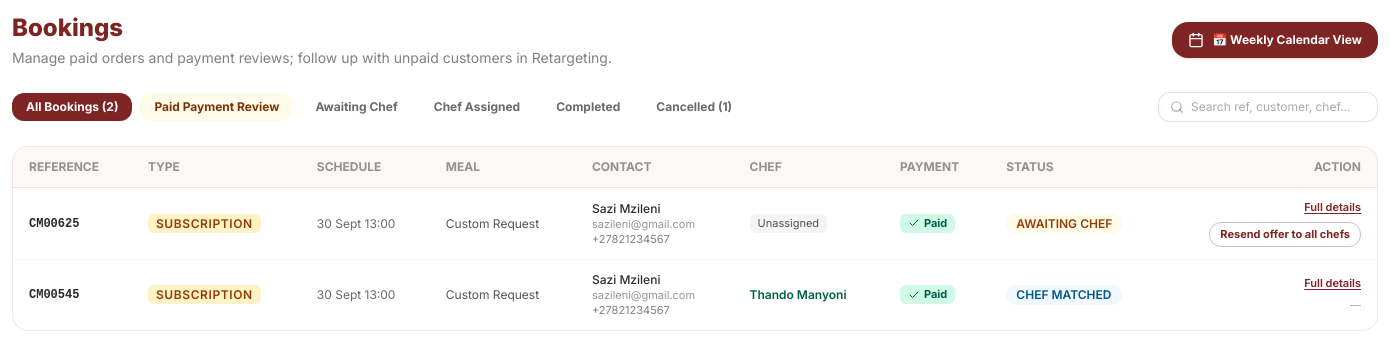
Admin bookings page › keeps cancelled bookings out of the default view and under the Cancelled tab
The image size is (1390, 348).
Expected: the text "CM00625" is shown, [13,188,132,260]
Expected: the text "CM00626" is not shown
// They remain visible under the explicit Cancelled audit tab.
Click the button "Cancelled (1)" at {"x": 694, "y": 107}, box [642,93,746,121]
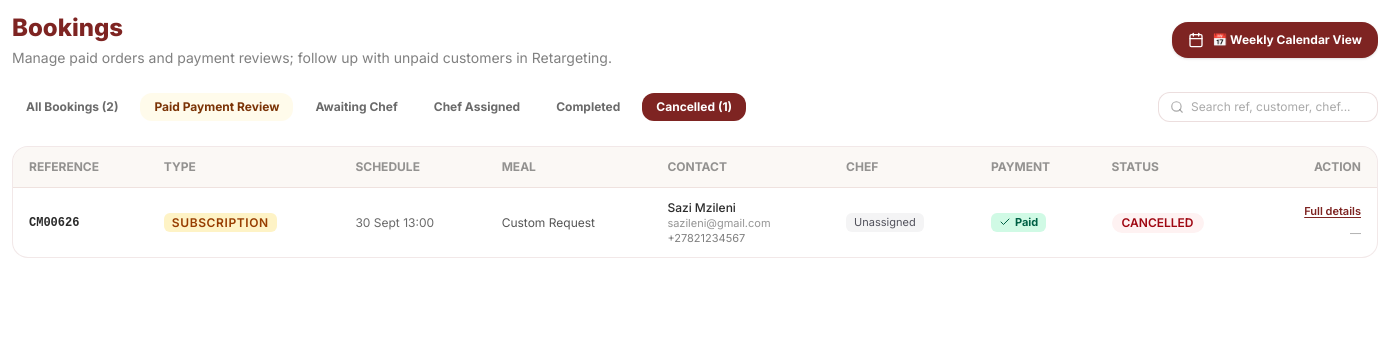
Expected: the text "CM00626" is shown, [13,188,148,257]
Expected: the text "CM00625" is gone
